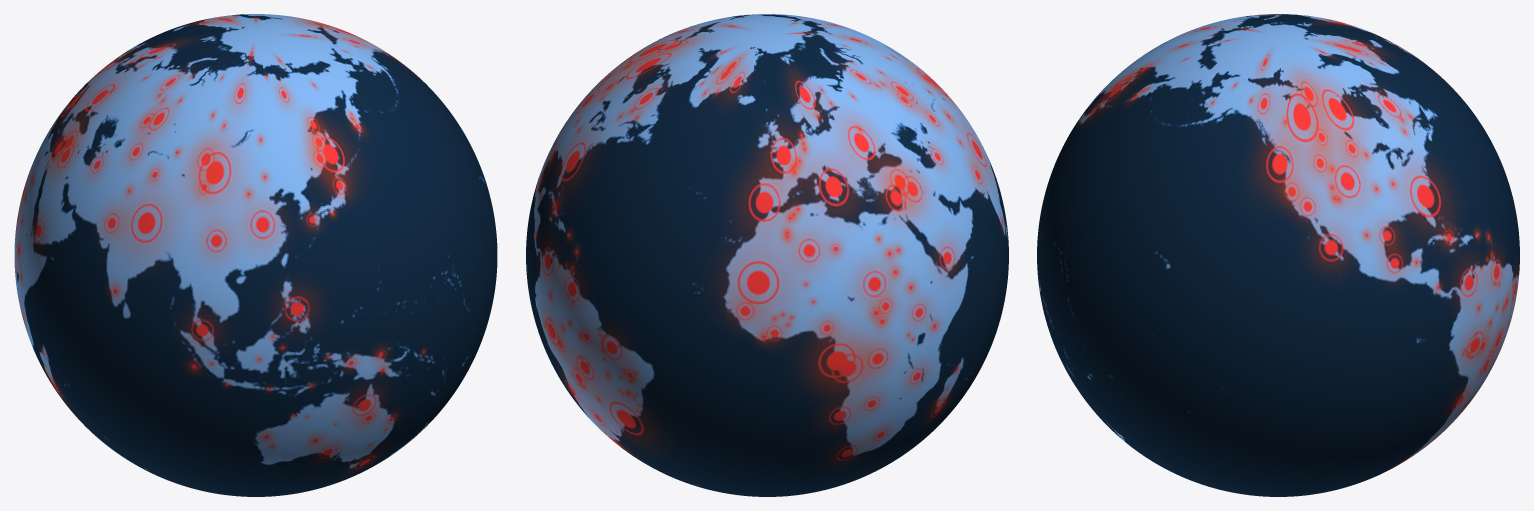
File: earth_spots.glb
The picture shows the model from 3 angles, left to right: view 1: azimuth 30°, elevation 25°; view 2: azimuth 150°, elevation 25°; view 3: azimuth 270°, elevation 25°; orthographic projection.
Visible parts, largest first — view 1: terra; view 2: terra; view 3: terra.
Boxes of the visible parts, x1,y1,x2,y2 form: terra: (14,14,497,496); terra: (526,14,1008,496); terra: (1037,14,1519,496).
Bounding box in the file's own units: 0.1974 × 0.1974 × 0.1974.
Materials: 1 (1 with a texture image).
